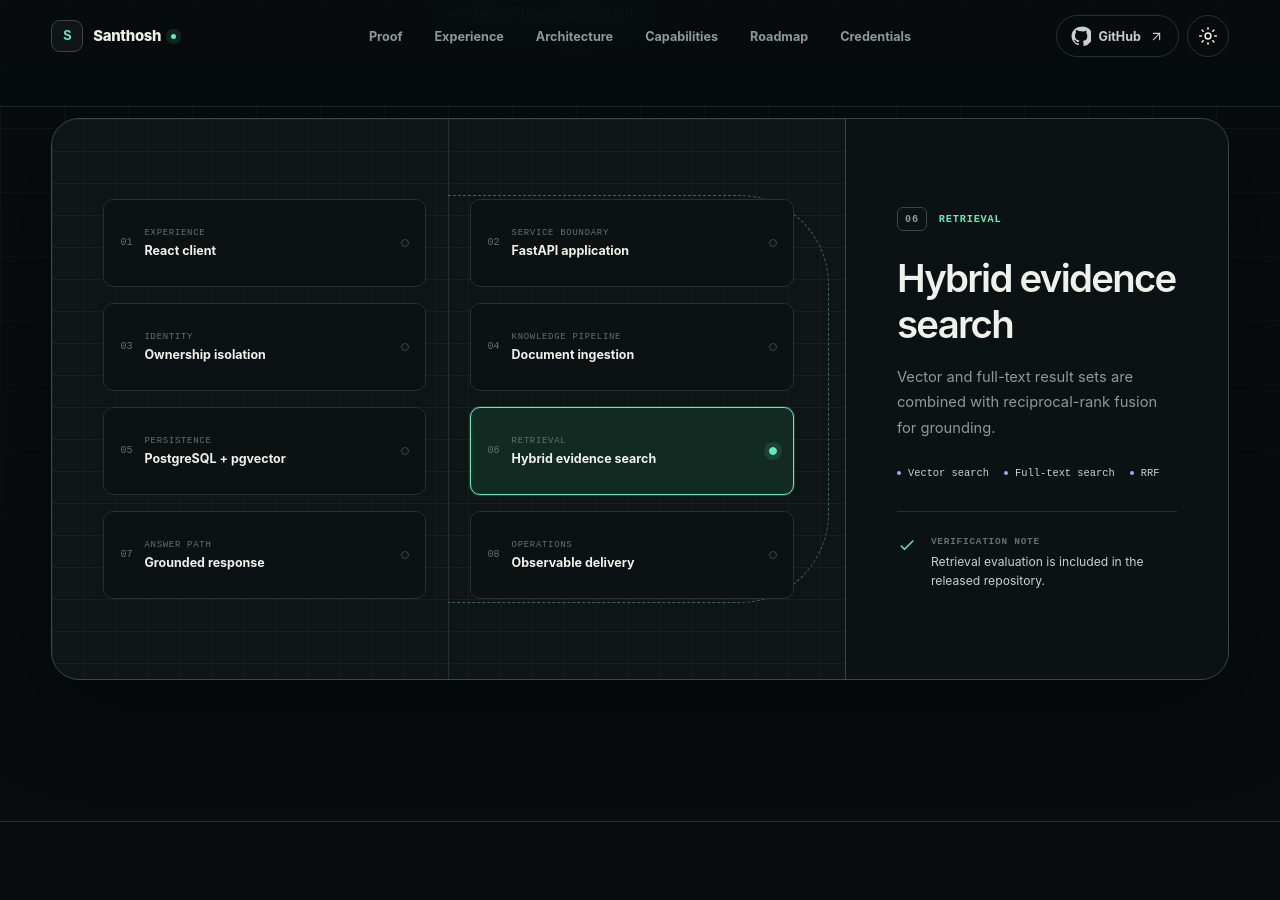
Scenario: portfolio application › updates architecture evidence when a layer is selected
(page scrolled)
Click the button "05 Persistence PostgreSQL + pgvector": (265, 451) [103, 407, 426, 495]
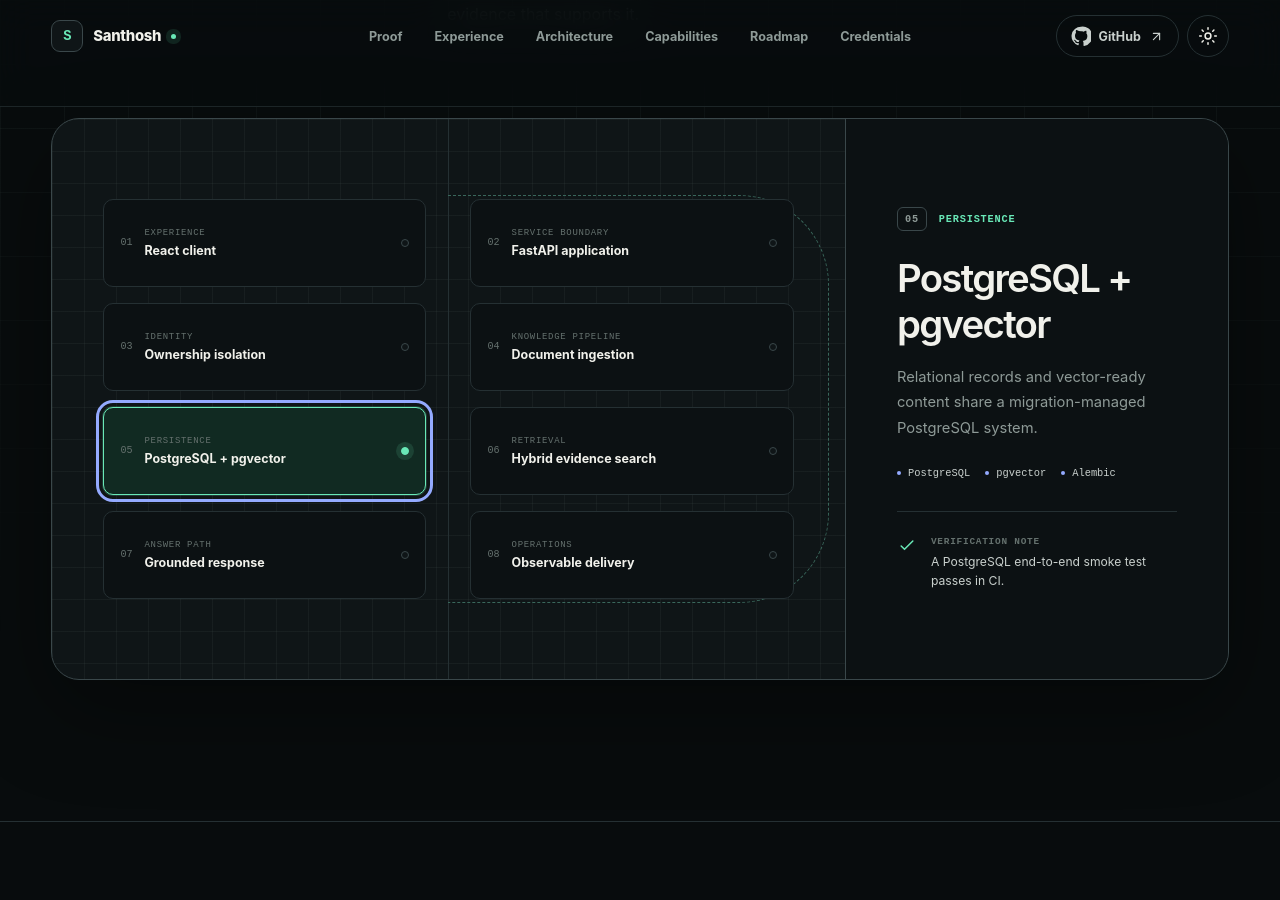
Expected: the heading "PostgreSQL + pgvector" is shown, [897, 255, 1131, 347]
Expected: the text "A PostgreSQL end-to-end smoke test passes in CI." is shown, [931, 553, 1177, 591]
